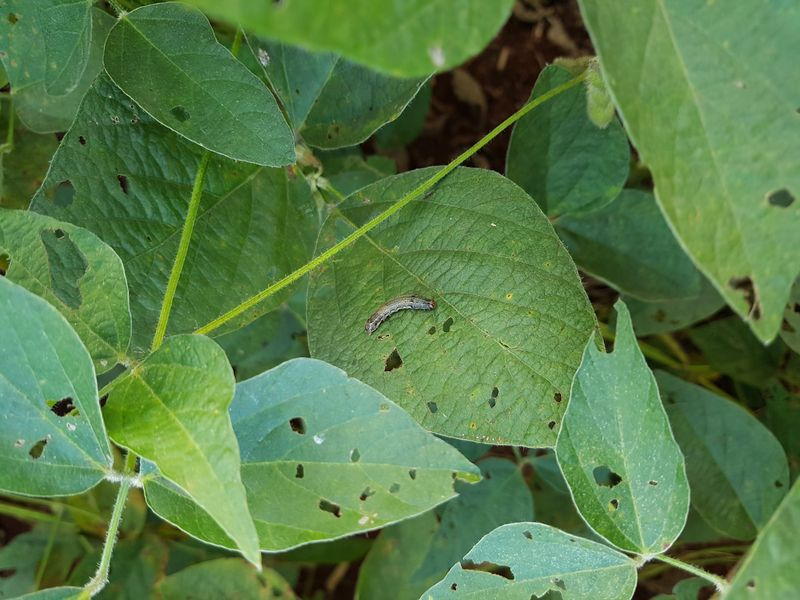Spodoptera_albula: (358, 280, 442, 347)
